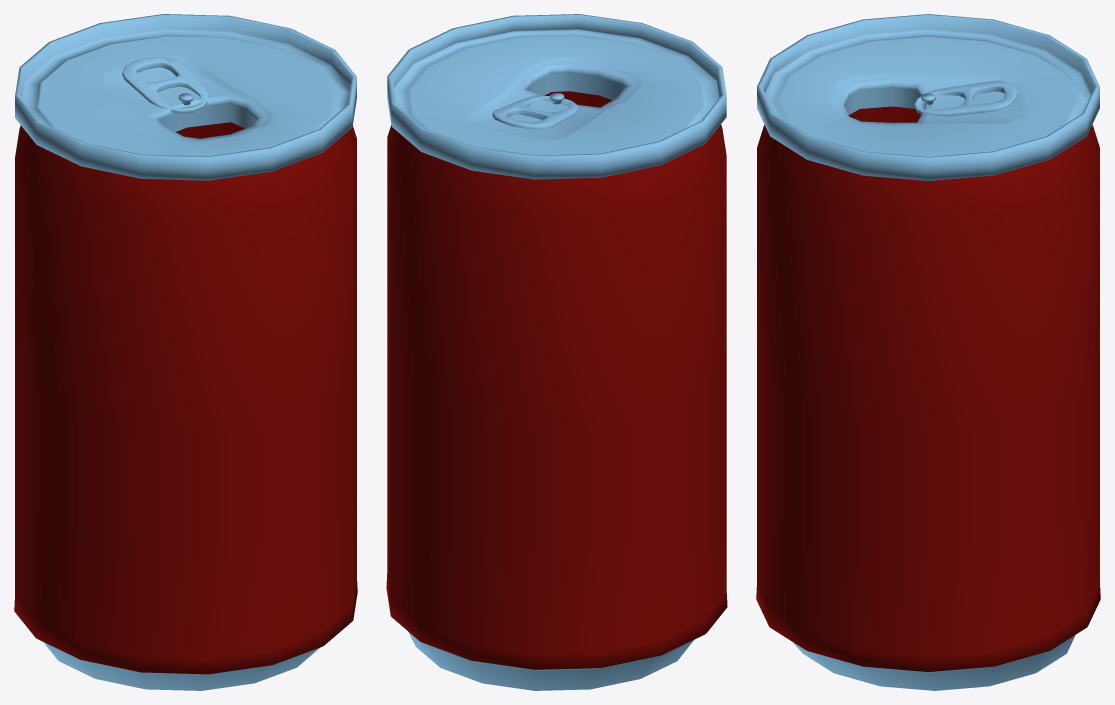
The model's file is Mesh_SodaCan_1.fbx.
3 renders of one model, left to right at view 1: azimuth 30°, elevation 25°; view 2: azimuth 150°, elevation 25°; view 3: azimuth 270°, elevation 25°, orthographic.
Visible parts, largest first — view 1: SodaCan.001, ring.001; view 2: SodaCan.001, ring.001; view 3: SodaCan.001, ring.001.
Part boxes in pixels (left/top/right/bottom): SodaCan.001: left=14, top=14, right=357, bottom=690; ring.001: left=122, top=57, right=208, bottom=113; SodaCan.001: left=386, top=14, right=727, bottom=690; ring.001: left=492, top=95, right=578, bottom=129; SodaCan.001: left=756, top=14, right=1100, bottom=690; ring.001: left=914, top=80, right=1017, bottom=116.
Bounding box in the file's own units: 7.62 × 13.28 × 7.62.
